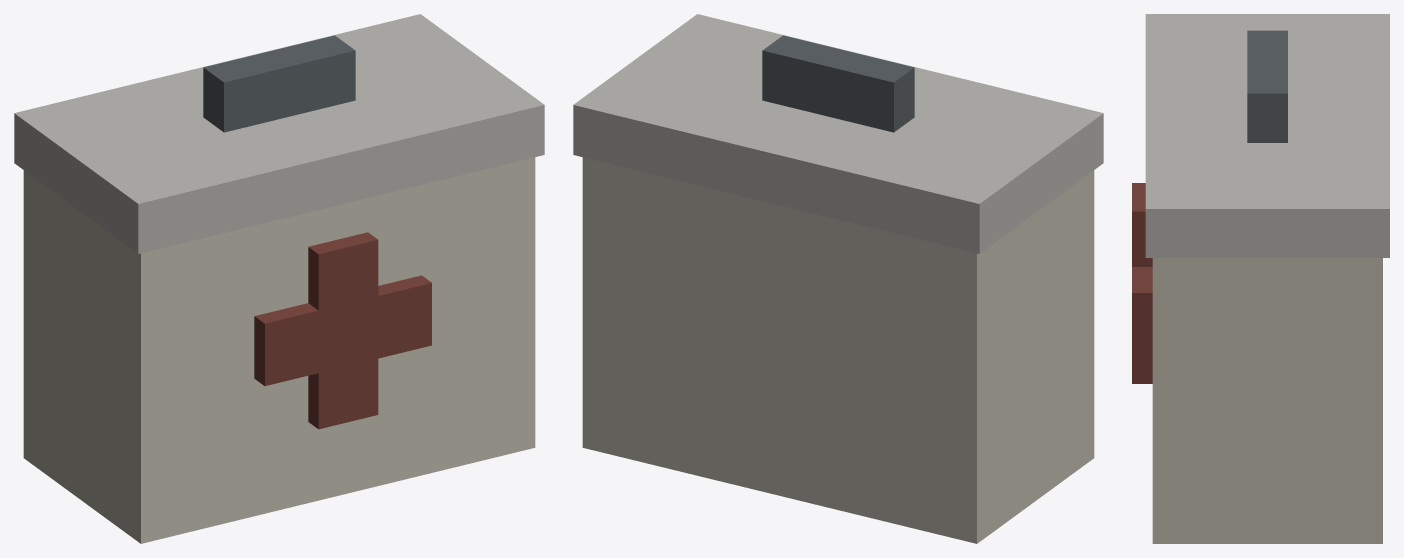
The model's file is item_good_medical_stock.glb.
3 views of the same model, side by side, from view 1: azimuth 30°, elevation 25°; view 2: azimuth 150°, elevation 25°; view 3: azimuth 270°, elevation 25° (orthographic).
Parts seen in each view (by area): view 1: case, lid, cross_h, handle, cross_v; view 2: case, lid, handle; view 3: case, lid, handle, cross_v, cross_h.
Part boxes in pixels (left/top/right/bottom): case: left=23, top=157, right=535, bottom=543; lid: left=14, top=14, right=544, bottom=253; cross_h: left=254, top=275, right=431, bottom=385; handle: left=203, top=35, right=355, bottom=132; cross_v: left=308, top=232, right=378, bottom=429; case: left=582, top=157, right=1094, bottom=543; lid: left=573, top=14, right=1103, bottom=253; handle: left=762, top=35, right=914, bottom=132; case: left=1152, top=258, right=1382, bottom=543; lid: left=1145, top=14, right=1389, bottom=257; handle: left=1247, top=30, right=1287, bottom=142; cross_v: left=1132, top=183, right=1152, bottom=383; cross_h: left=1132, top=267, right=1152, bottom=354.
Bounding box in the file's own units: 0.68 × 0.63 × 0.38.
